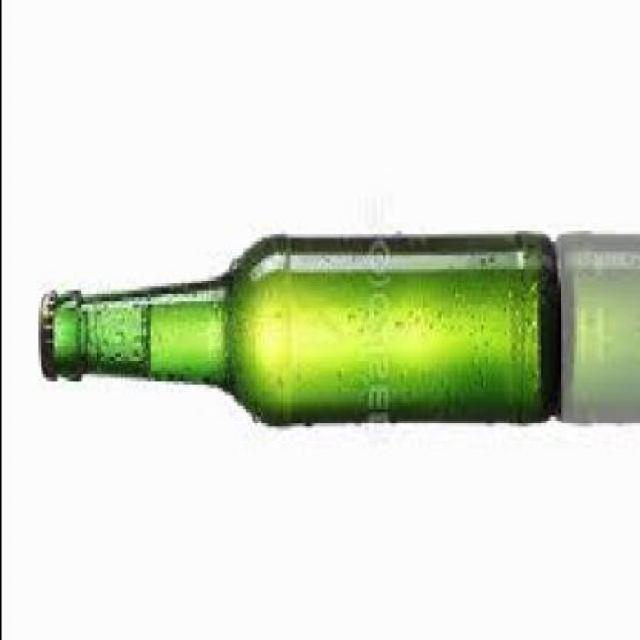GLASS: (49, 235, 554, 419)
METAL: (35, 283, 56, 374)
